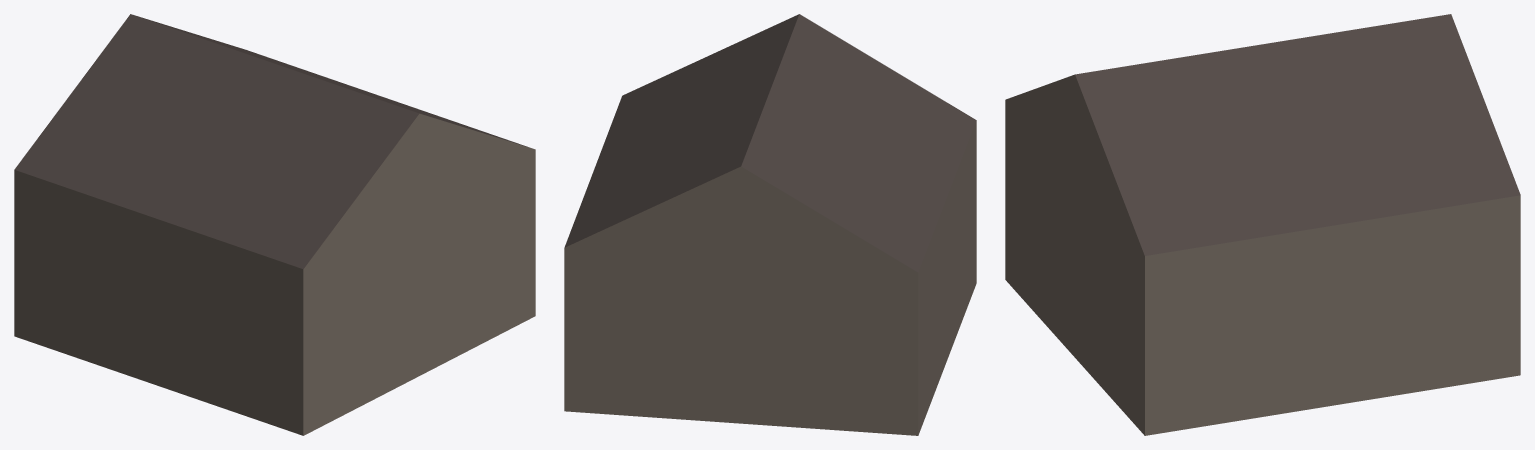
The picture shows the model from 3 angles, left to right: view 1: azimuth 30°, elevation 25°; view 2: azimuth 150°, elevation 25°; view 3: azimuth 270°, elevation 25°; orthographic projection. The views are drawn at different scales.
Parts seen in each view (by area): view 1: HP-w1395805677; view 2: HP-w1395805677; view 3: HP-w1395805677.
Boxes of the visible parts, x1,y1,x2,y2 form: HP-w1395805677: [14, 14, 535, 435]; HP-w1395805677: [564, 14, 976, 435]; HP-w1395805677: [1005, 14, 1520, 435].
Size of the model in its own units: 15.51 by 9.45 by 15.59.
